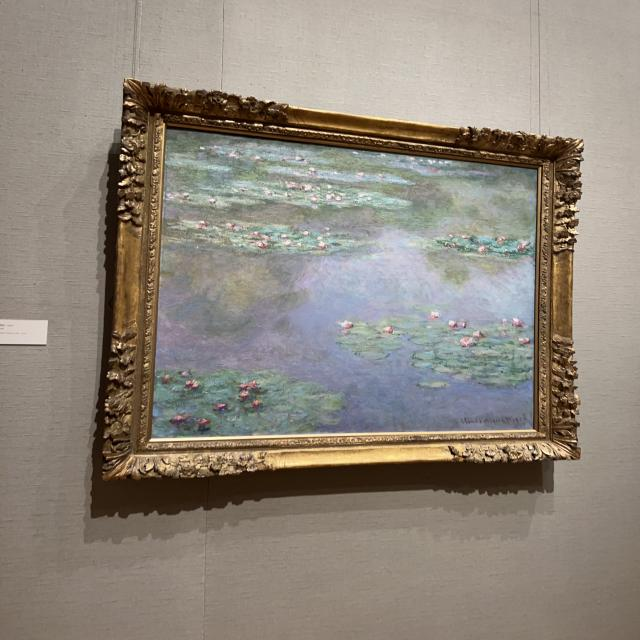lilies: (154, 132, 534, 434)
